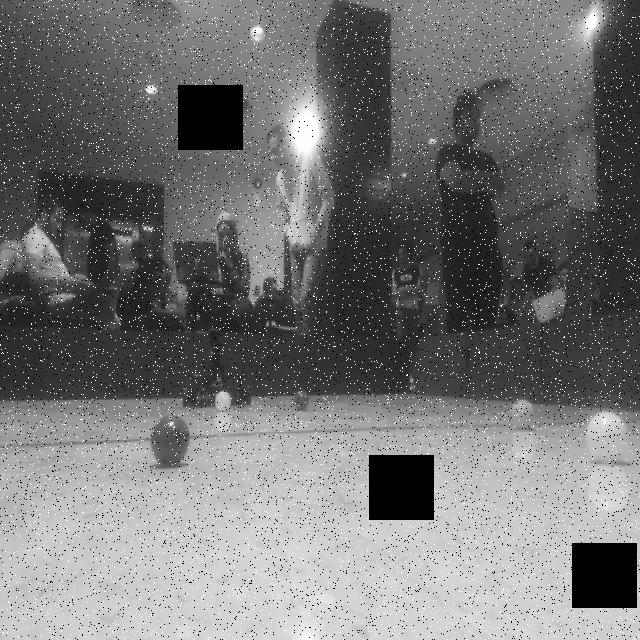ball: (147, 410, 193, 467), (584, 410, 628, 464), (506, 398, 540, 431), (210, 387, 236, 415), (292, 384, 313, 415)
